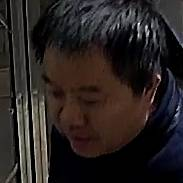caibo: (25, 33, 152, 160)
